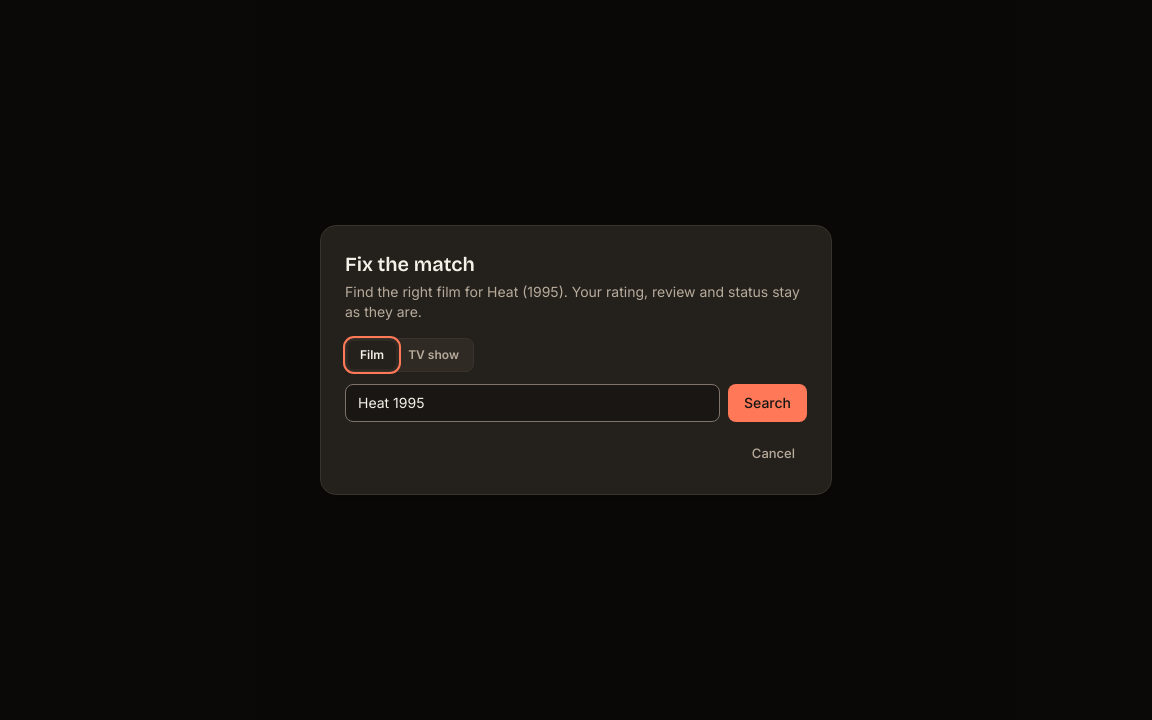
Test: CorrectTitleModal › shows the clash message from the server
Click the button "Search".
click(768, 403)  # box [728, 384, 807, 422]
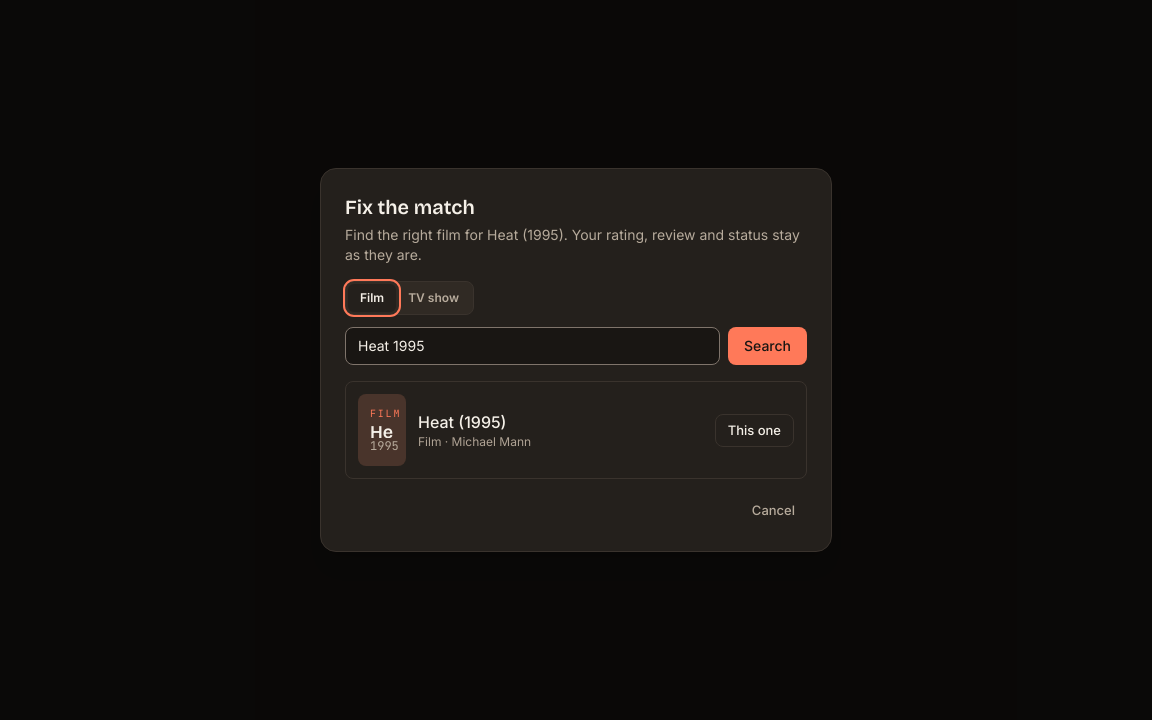
Click the button with aria-label "This one: Heat (1995)".
click(754, 430)  # box [715, 414, 794, 447]
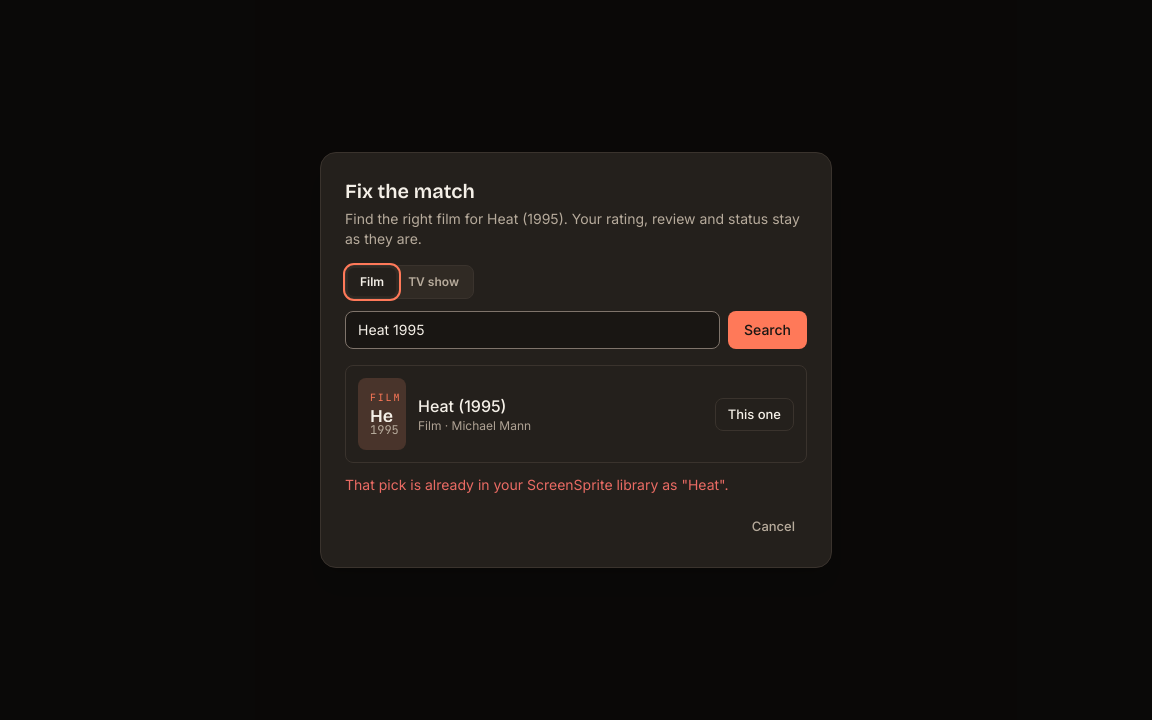
expect the message shows "already in your ScreenSprite library": met, box [345, 476, 728, 493]
